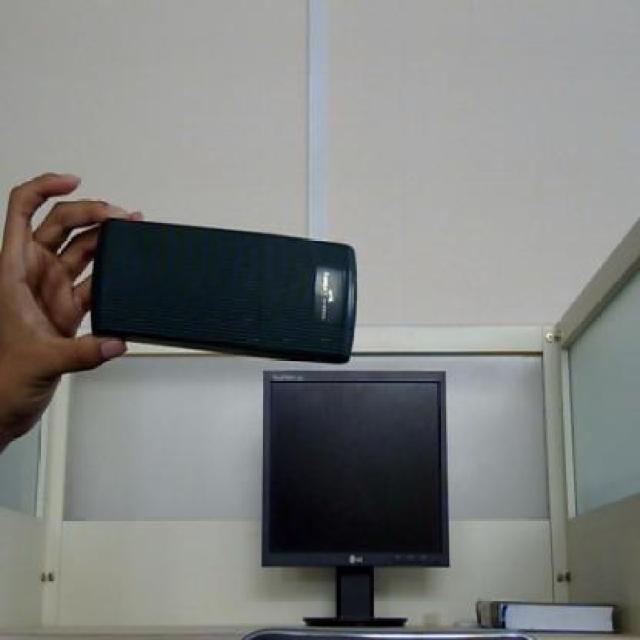Plastic: (92, 220, 358, 365)
